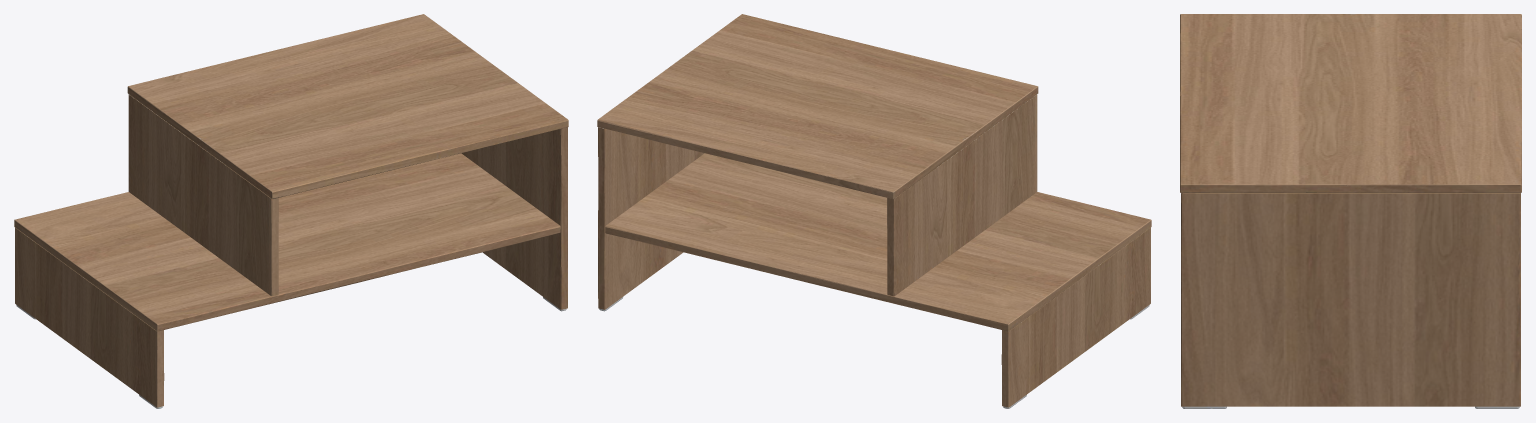
3 views of the same model, side by side, from view 1: azimuth 30°, elevation 25°; view 2: azimuth 150°, elevation 25°; view 3: azimuth 270°, elevation 25° (orthographic). The views are drawn at different scales.
Visible parts, largest first — view 1: model; view 2: model; view 3: model.
Part boxes in pixels (bbox=[...]): model: bbox=[14, 14, 568, 408]; model: bbox=[597, 14, 1151, 408]; model: bbox=[1180, 14, 1521, 408].
Bounding box in the file's own units: 0.9 × 0.4 × 0.55.
Materials: 1 (1 with a texture image).
